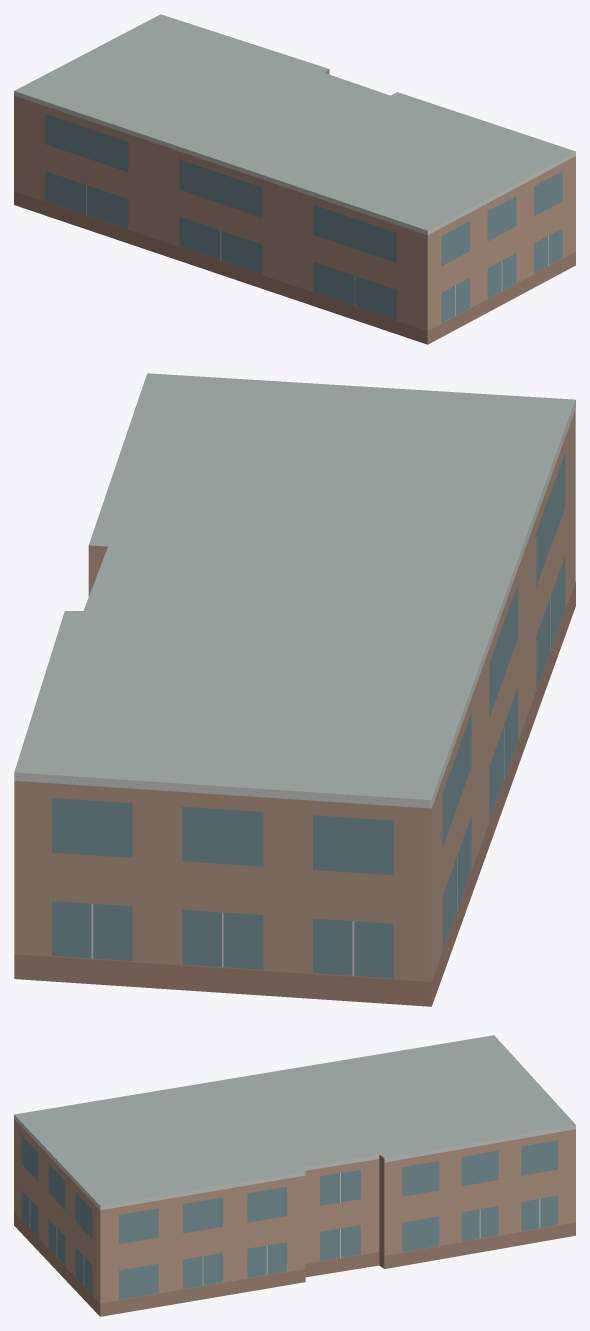
The model's file is survey-upis-32494555.glb.
The picture shows the model from 3 angles, top to bottom: view 1: azimuth 30°, elevation 25°; view 2: azimuth 150°, elevation 25°; view 3: azimuth 270°, elevation 25°; orthographic projection. The views are drawn at different scales.
Parts seen in each view (by area): view 1: survey-upis-32494555.tmp; view 2: survey-upis-32494555.tmp; view 3: survey-upis-32494555.tmp.
Boxes of the visible parts, bbox=[...] form: survey-upis-32494555.tmp: bbox=[14, 14, 575, 344]; survey-upis-32494555.tmp: bbox=[14, 373, 575, 1006]; survey-upis-32494555.tmp: bbox=[14, 1035, 575, 1316].
Size of the model in its own units: 20.14 by 6.1 by 28.
